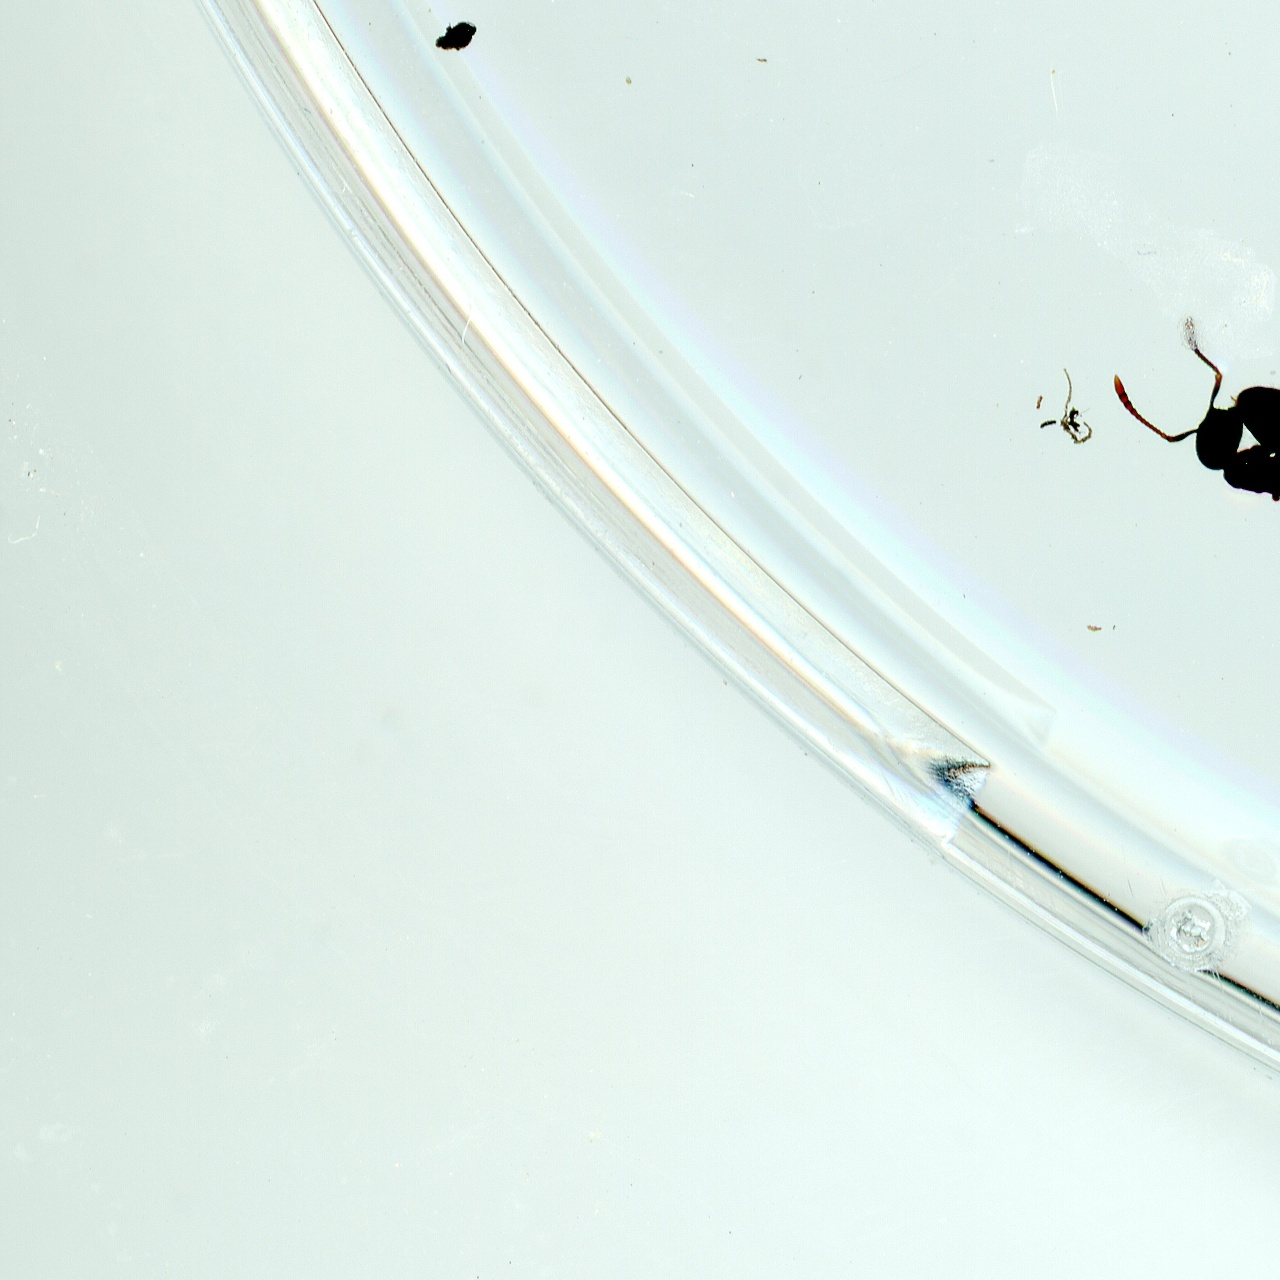arthropod: (1083, 264, 1280, 587)
